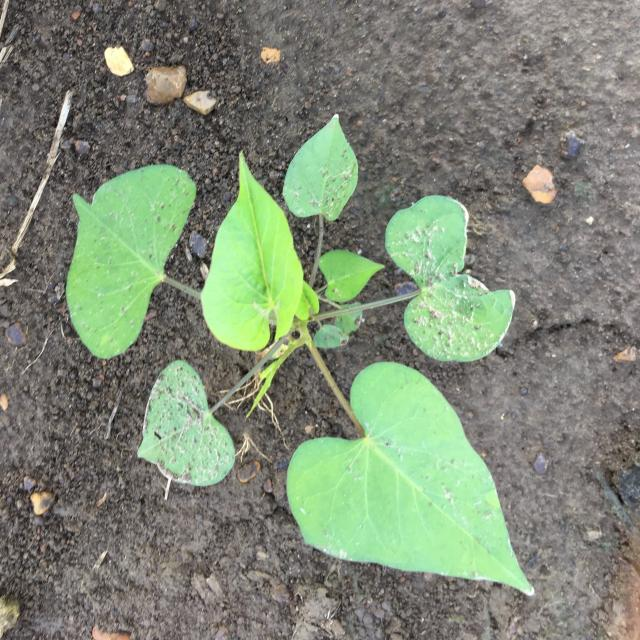MorningGlory: (66, 116, 534, 596)
